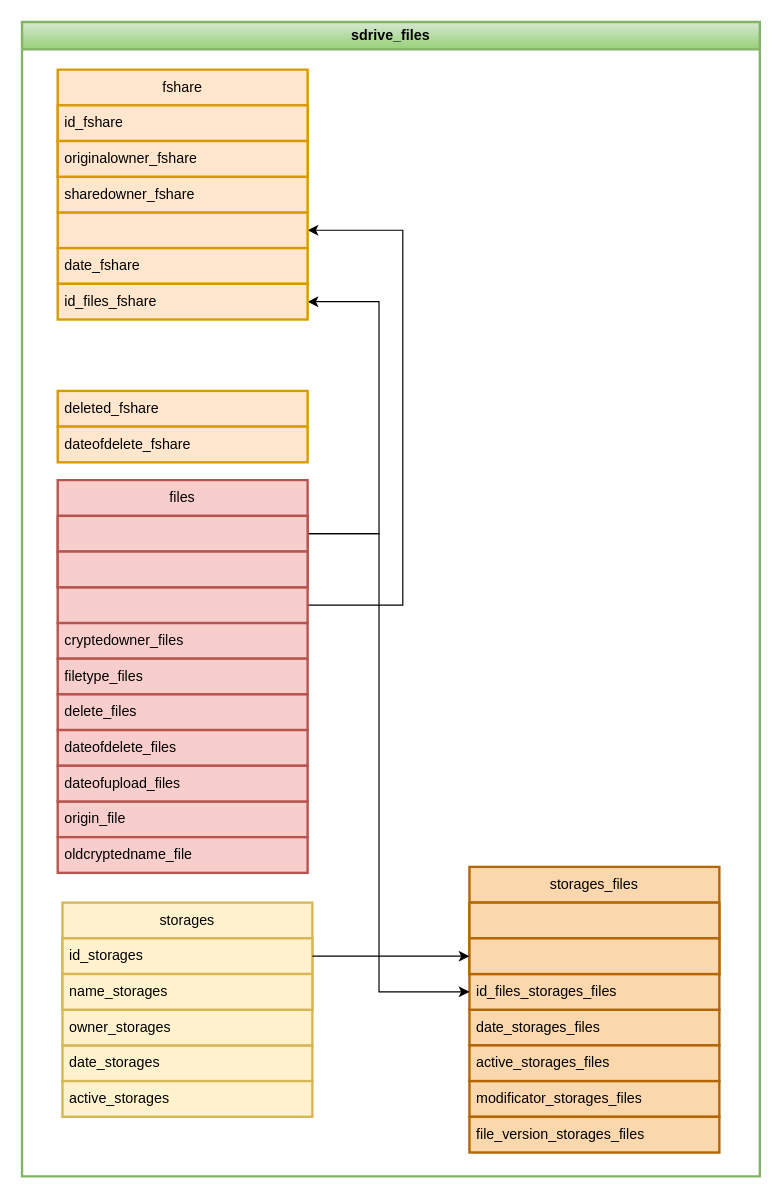
Some shapes in this 781 by 1197 pixel diagram are drawn without their labels. Each missing label, with the centre of its shape:
cryptedname_files: point 182,604
file_fshare: point 182,230
id_files: point 182,533
id_storages_files: point 594,920
id_storages_storages_files: point 594,956
originalname_files: point 182,569
